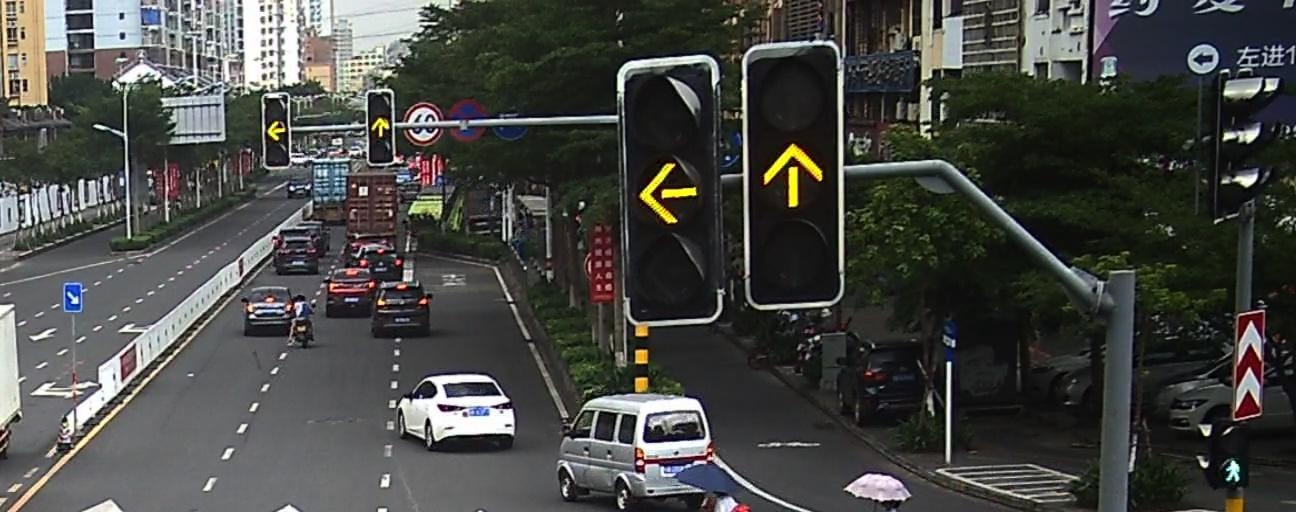greenpeople: (1221, 456, 1248, 484)
yellowleft: (634, 159, 700, 228), (267, 117, 288, 143)
yellowstraight: (761, 140, 829, 212), (369, 115, 391, 140)
